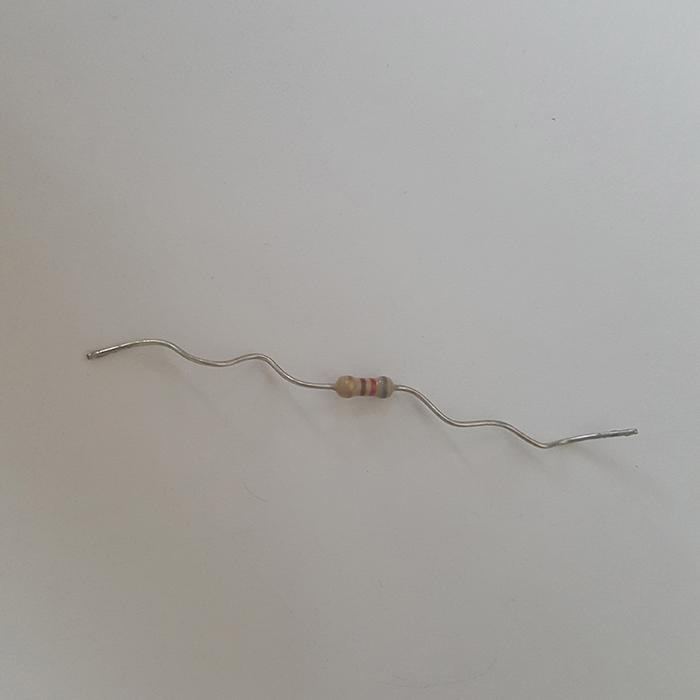resistor: (334, 374, 394, 398)
